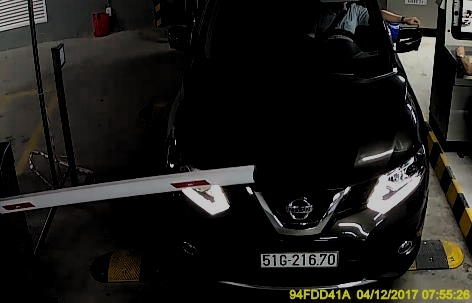plate: (260, 248, 338, 267)
